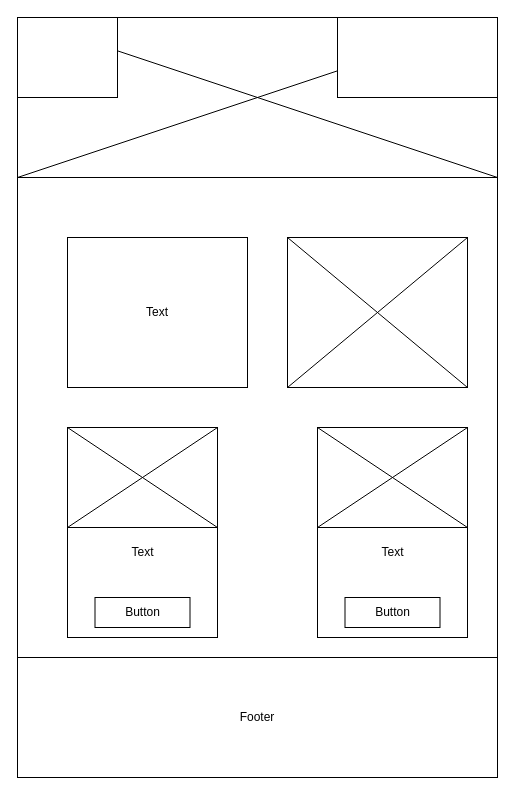
Image size: 516x795. Some labels were removed from this diagram. Each missing label, with the centre of its shape:
Logo: point (67, 57)
Navigation: point (417, 57)
